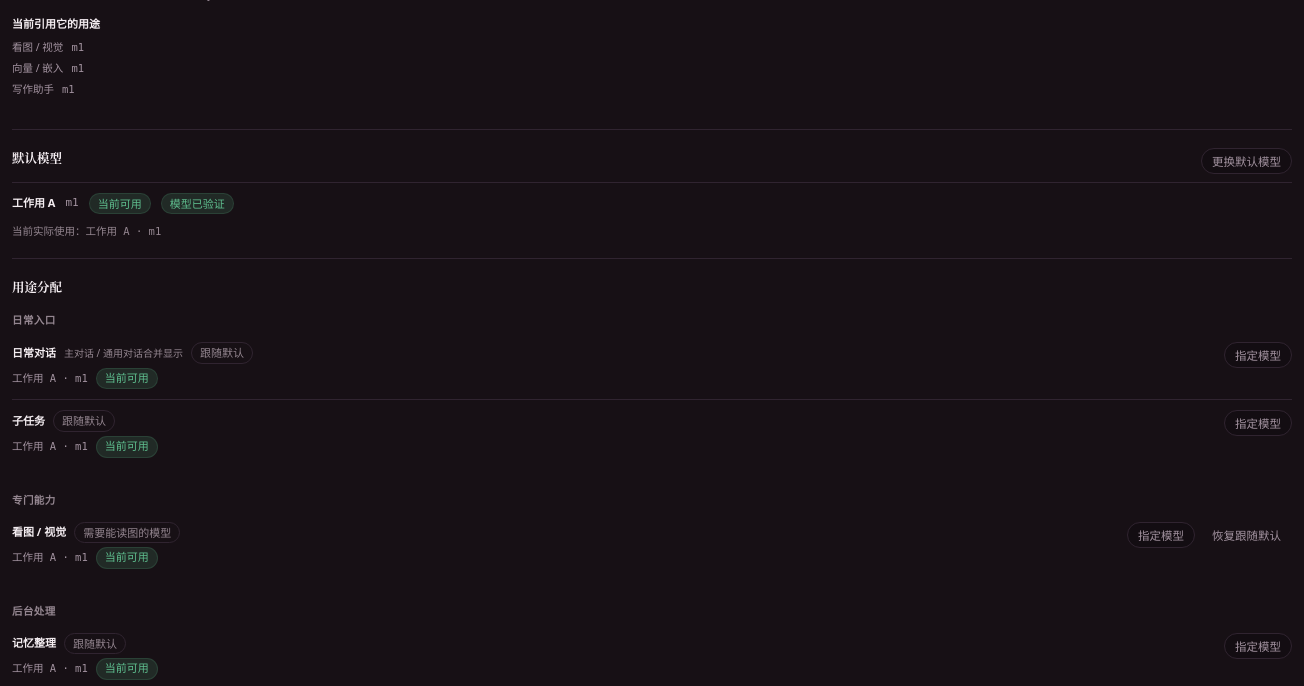
Test: 用途分配 · 后端拒绝时显示人话 › 结构化 422 的 detail 直接呈现，不显示原始 JSON
(page scrolled)
Expected: the element showing "日常对话 主对话 / 通用对话合并显示 跟随默认 工作用 A · m1 当前可用 指定模型" is shown, x1=12 y1=332 x2=1292 y2=400
Step 1. Click the button "指定模型" in the row of "主对话 / 通用对话合并显示" → (1258, 355), box x1=1224 y1=342 x2=1292 y2=368
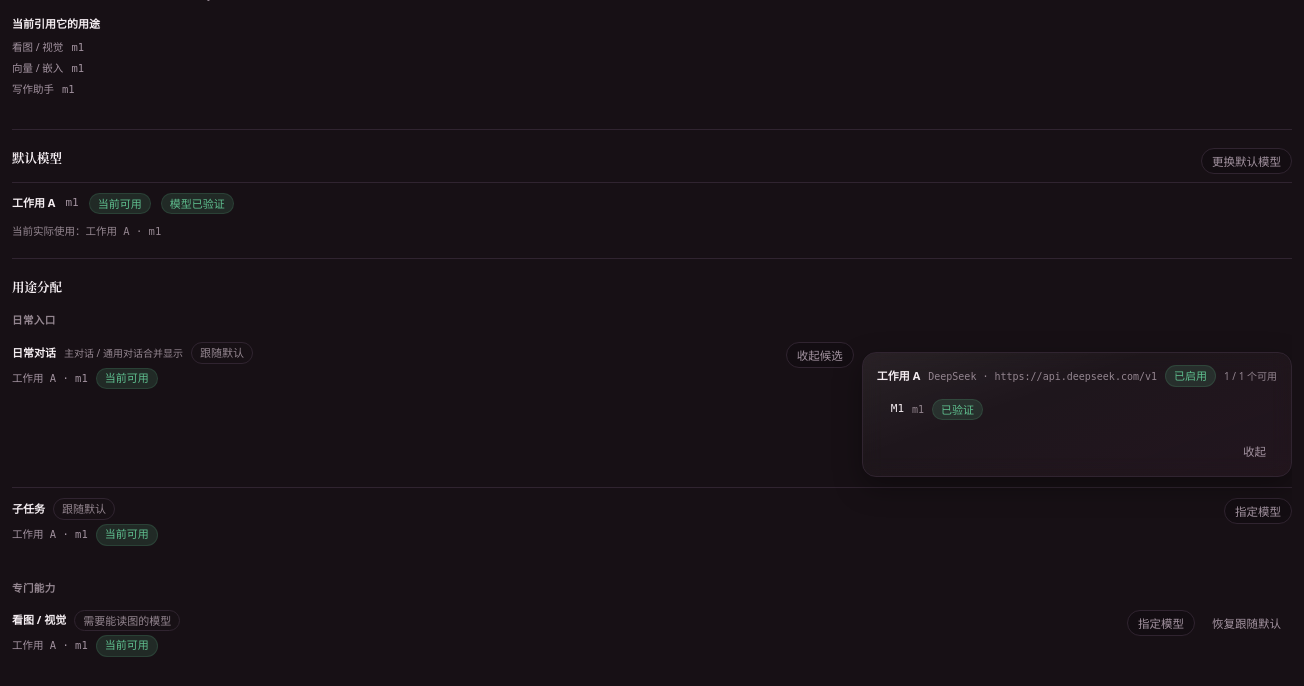
Result: the button with class "model" is shown
Step 2. Click the button with class "model" → (958, 410), box x1=877 y1=391 x2=1277 y2=428
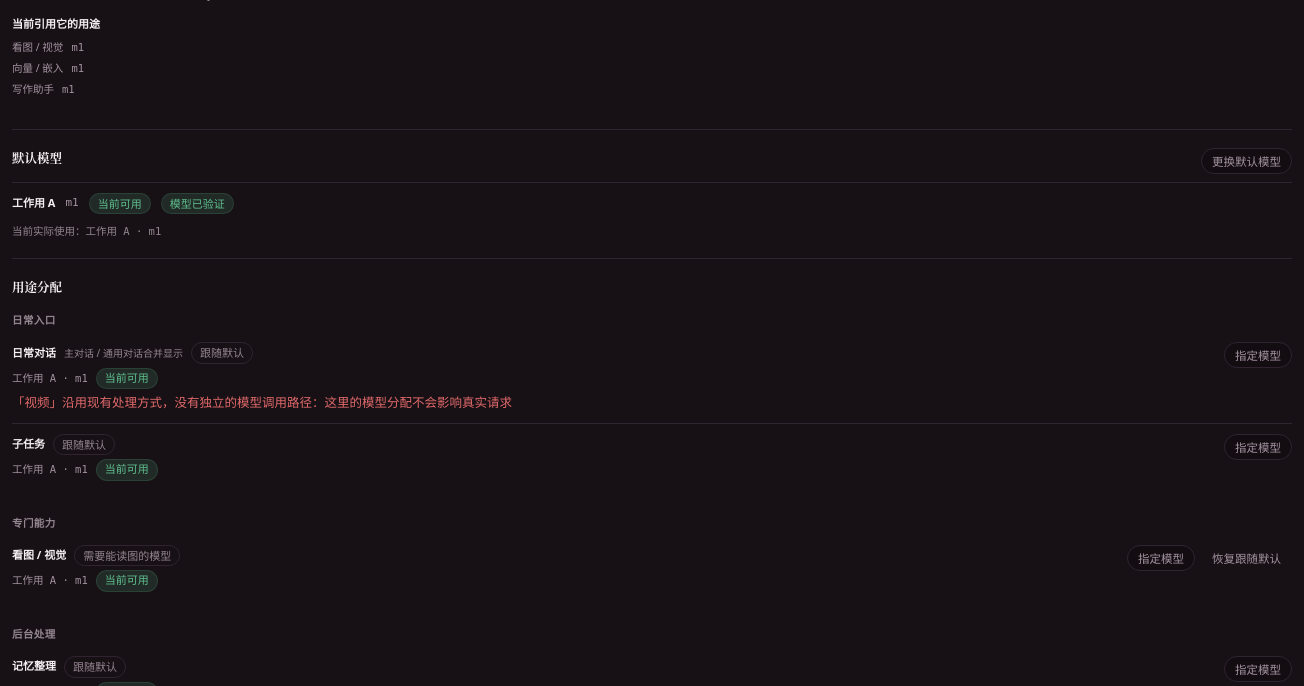
Expected: the element that starts with "日常对话" is shown, x1=12 y1=332 x2=1292 y2=423
Result: the element that starts with "日常对话" shows "这里的模型分配不会影响真实请求" at x1=12 y1=394 x2=512 y2=412
